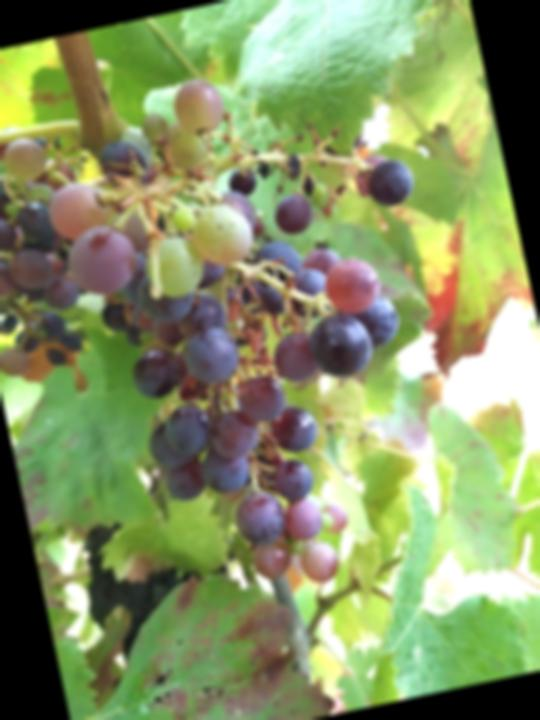grape: (0, 25, 495, 643)
